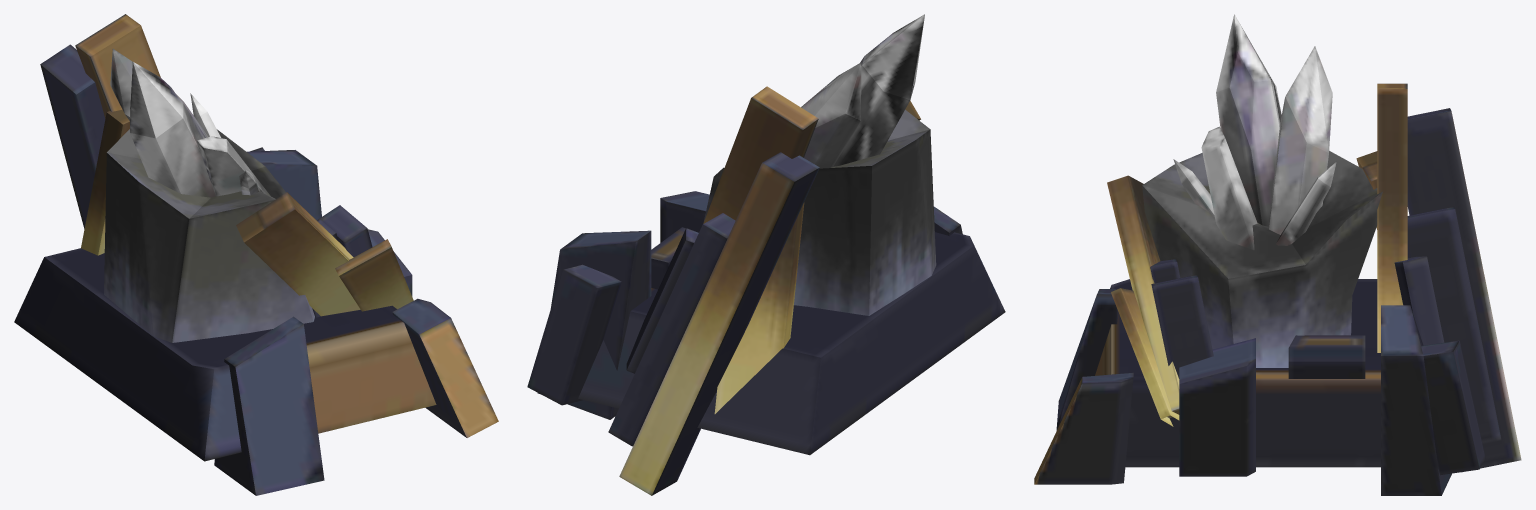
Rendered from trap_460_xbdiam_broken.fbx.
3 renders of one model, left to right at view 1: azimuth 30°, elevation 25°; view 2: azimuth 150°, elevation 25°; view 3: azimuth 270°, elevation 25°, orthographic. The views are drawn at different scales.
Visible parts, largest first — view 1: trap_460_xbdiam_broken; view 2: trap_460_xbdiam_broken; view 3: trap_460_xbdiam_broken.
Boxes of the visible parts, x1,y1,x2,y2 form: trap_460_xbdiam_broken: (14,14,498,495); trap_460_xbdiam_broken: (527,14,1005,495); trap_460_xbdiam_broken: (1034,14,1521,495).
Bounding box in the file's own units: 0.616 × 0.8595 × 0.9616.
Materials: 1 (1 with a texture image).
